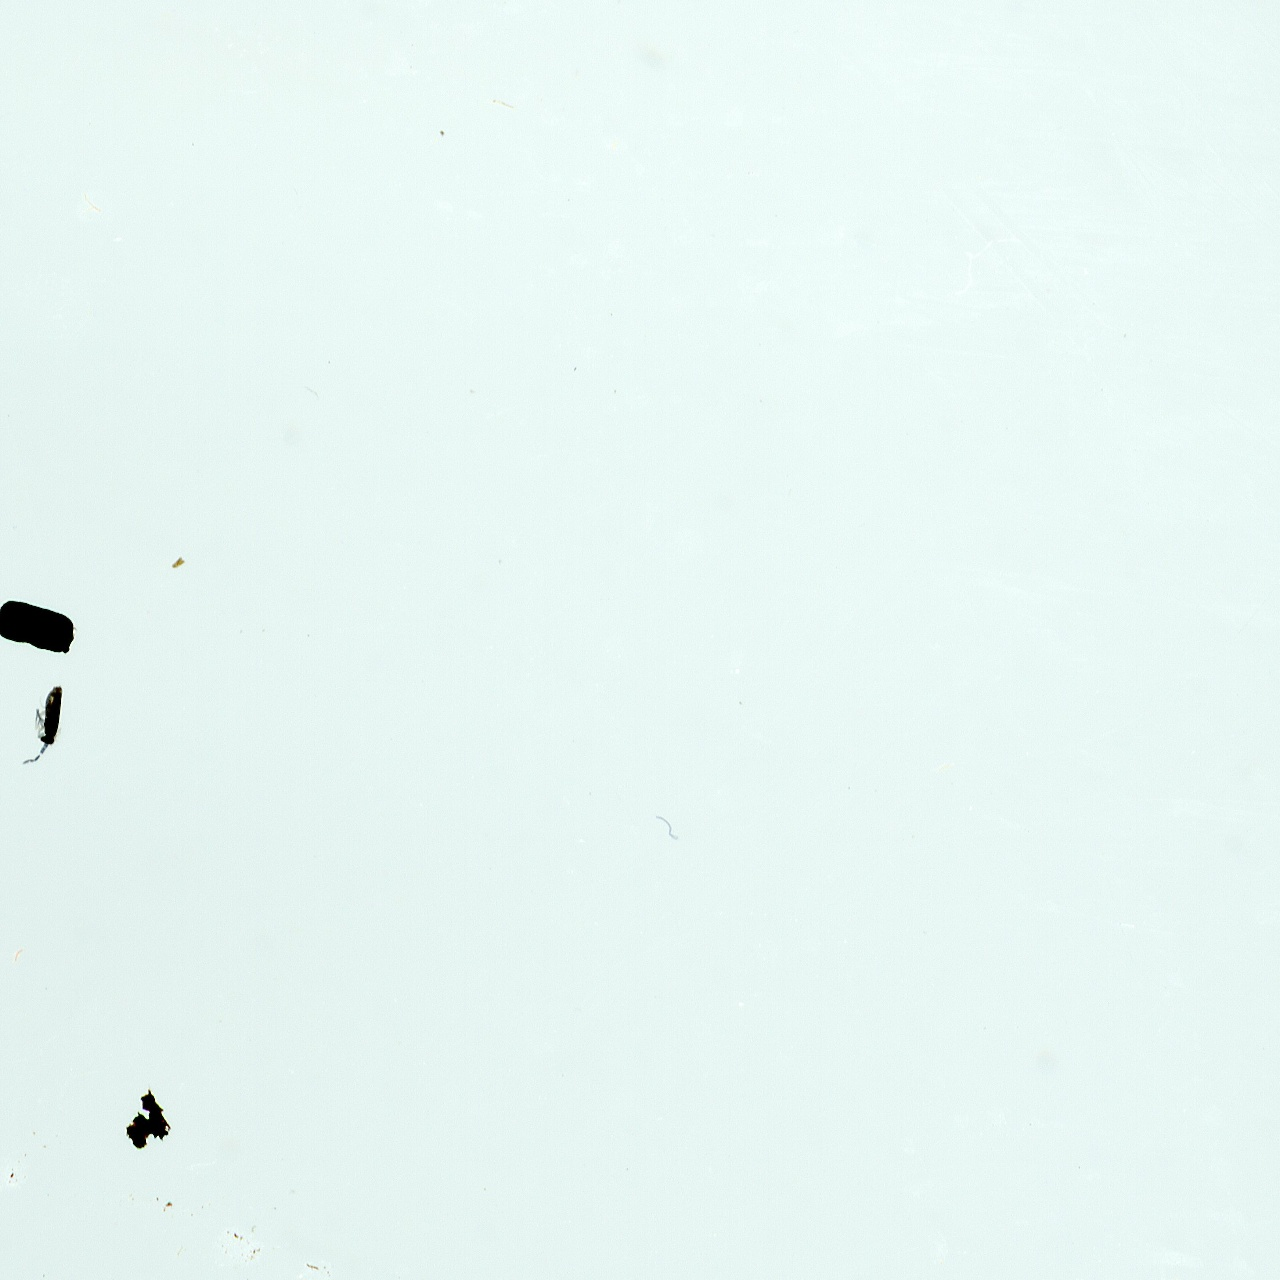arthropod: (13, 663, 74, 783)
